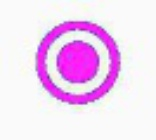RadioButton: (1, 1, 155, 139)
